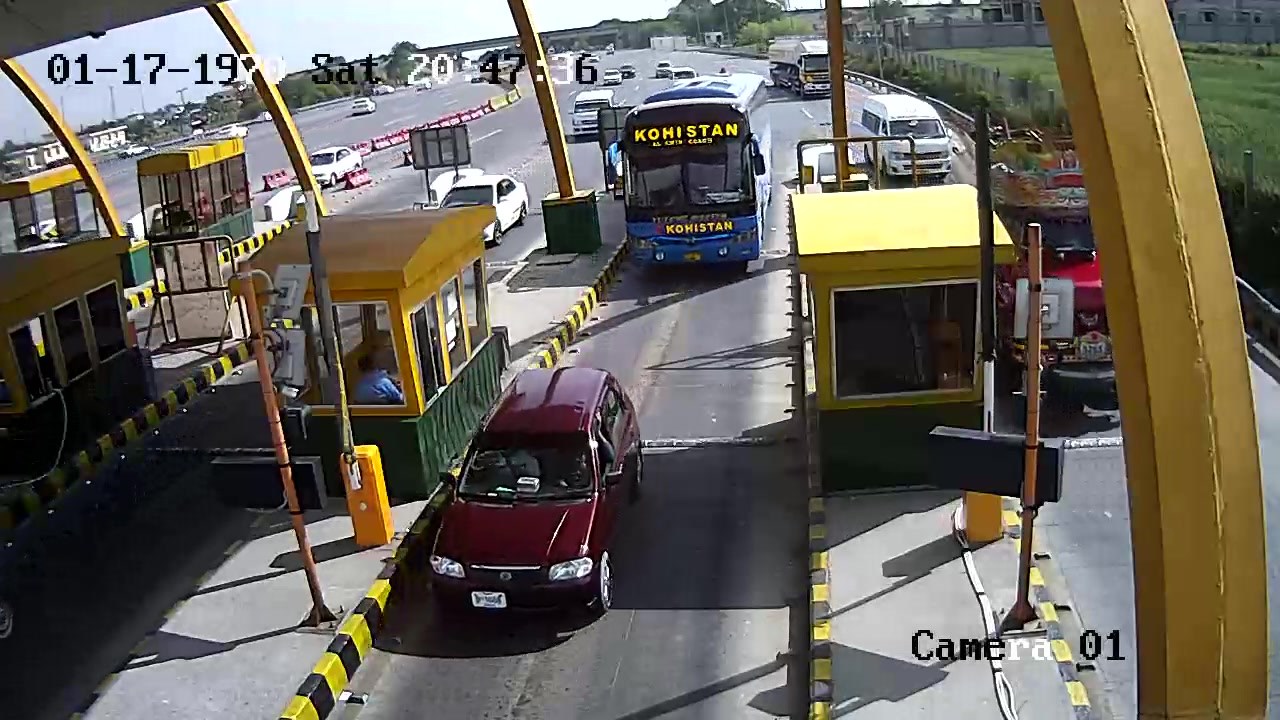F4: (617, 71, 771, 279)
